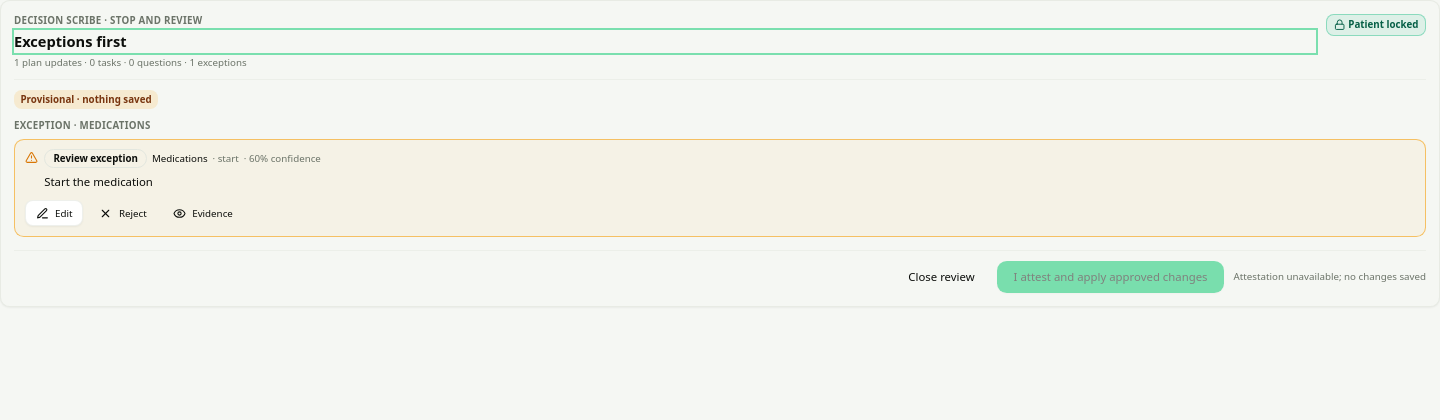
Test: Decision Scribe review in Today's Round › supports edit, reject, undo, and bounded evidence disclosure
This screenshot has width=1440, height=420.
Click the button "Edit" at x=54, y=213, box x1=25 y1=200 x2=83 y2=226
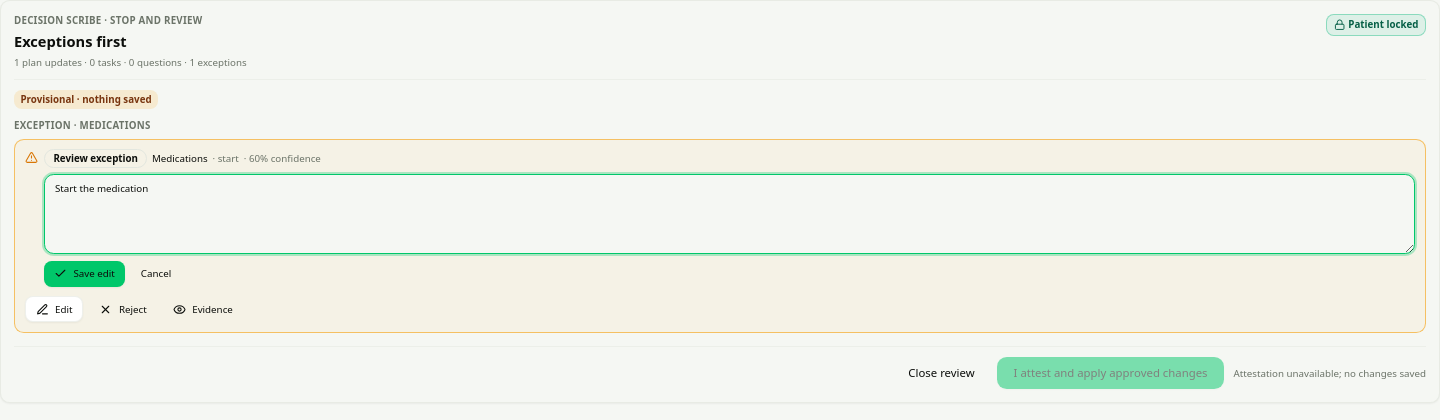
Replace the text in the text box named "Edit proposed decision" with "Start a reduced dose" at x=730, y=214, box x1=44 y1=174 x2=1415 y2=254
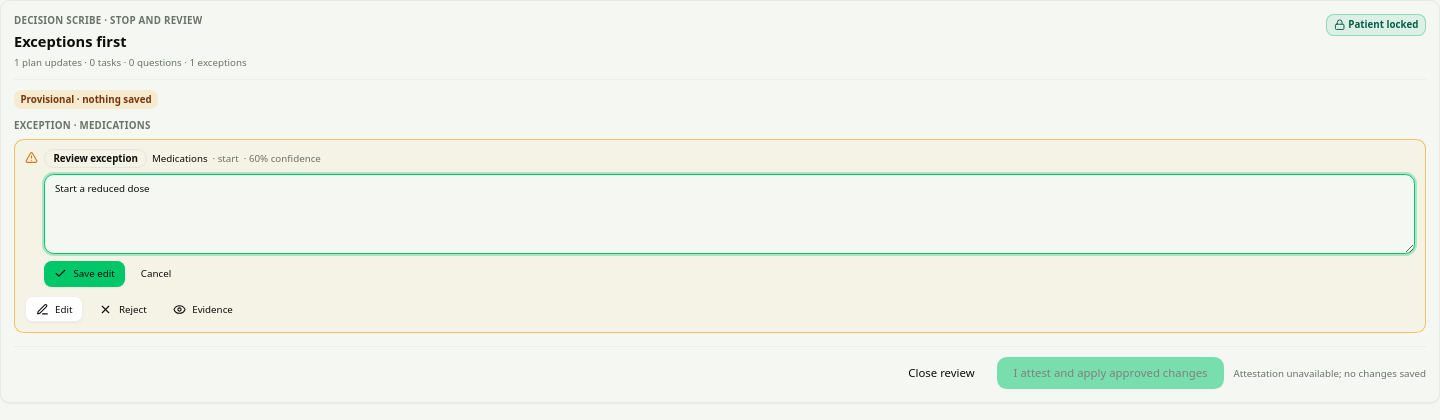
Click the button "Save edit" at x=84, y=274, box x1=44 y1=260 x2=125 y2=286
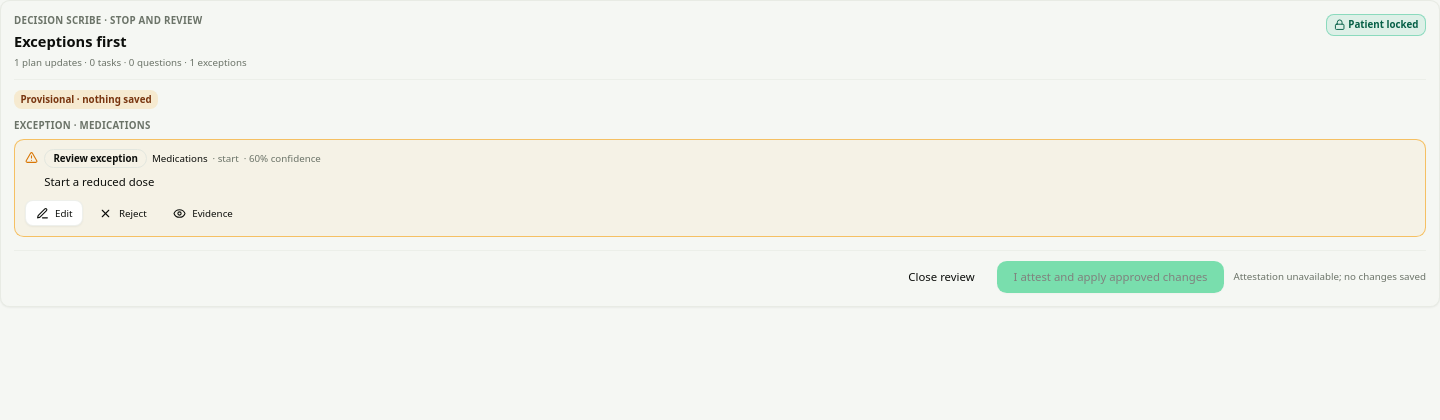
Expected: the text "Start a reduced dose" is shown, x1=44 y1=174 x2=154 y2=189
Click the button "Reject" at x=123, y=213, box x1=90 y1=200 x2=156 y2=226
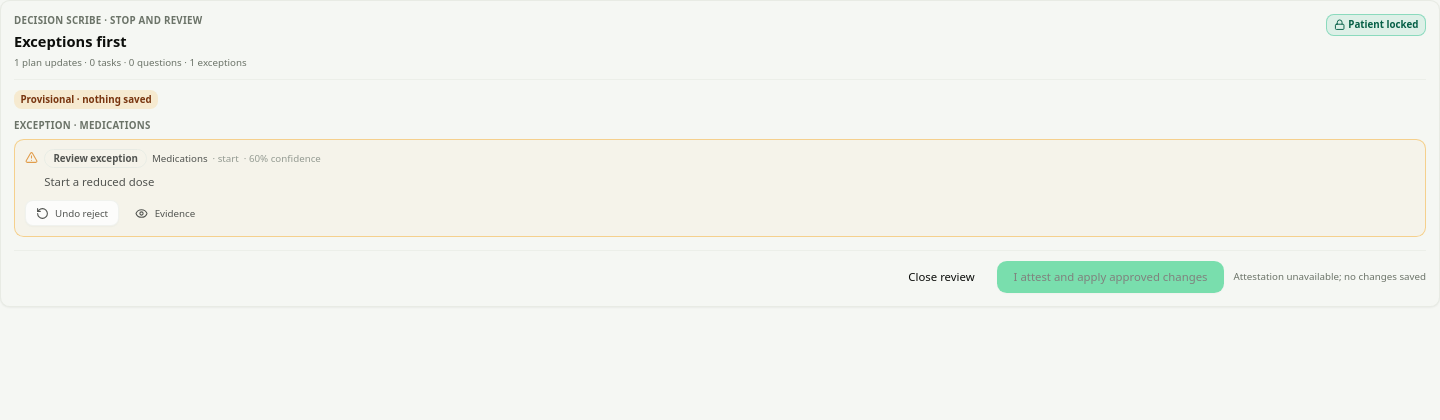
Click the button "Undo reject" at x=72, y=213, box x1=25 y1=200 x2=119 y2=226
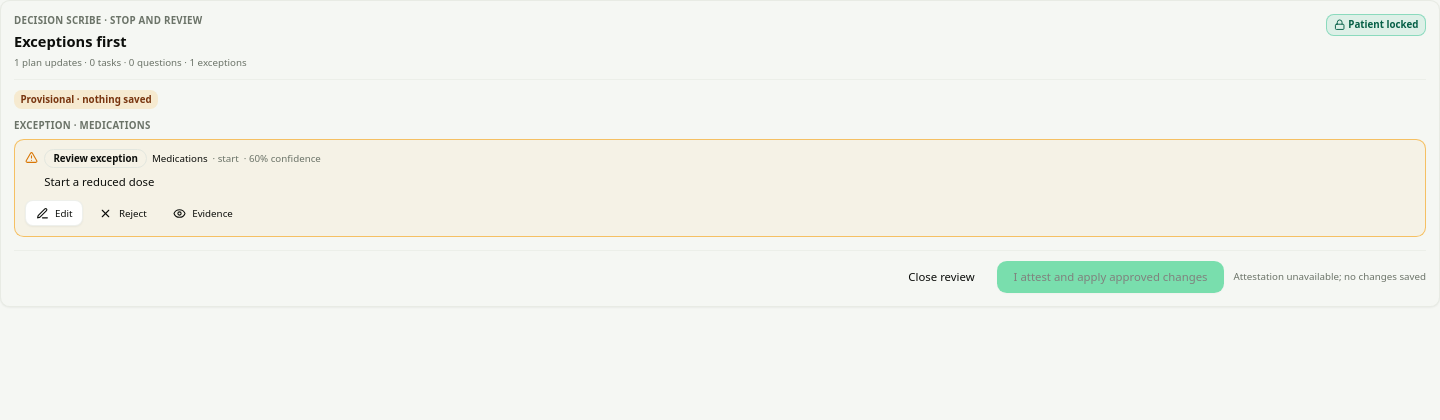
Click the button "Evidence" at x=203, y=213, box x1=163 y1=200 x2=243 y2=226
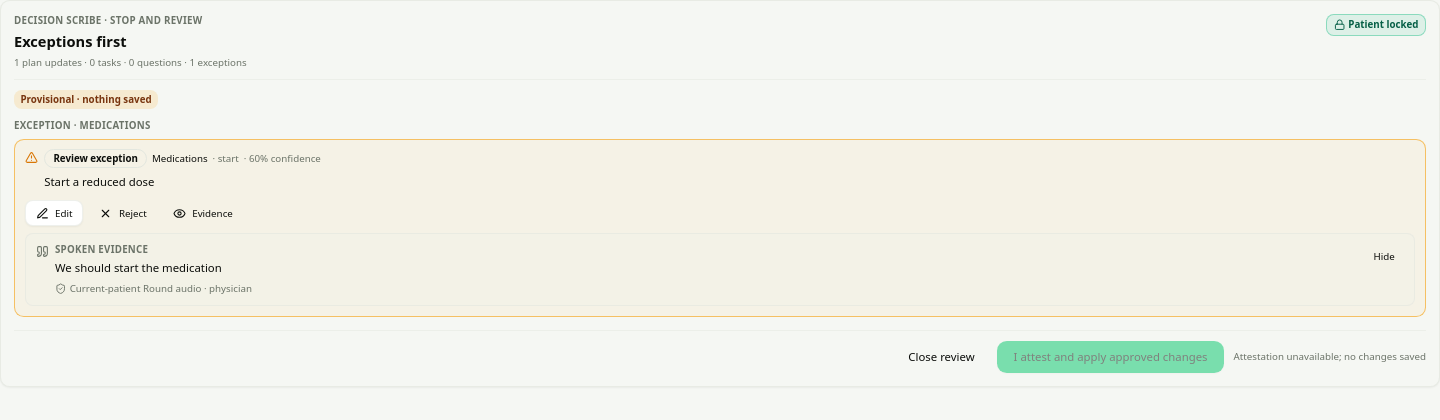
Expected: the text "We should start the medication" is shown, x1=55 y1=260 x2=222 y2=274
